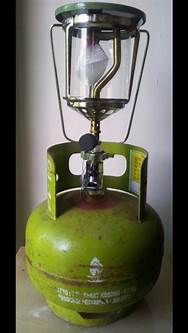gas_ijo: (25, 141, 165, 326)
